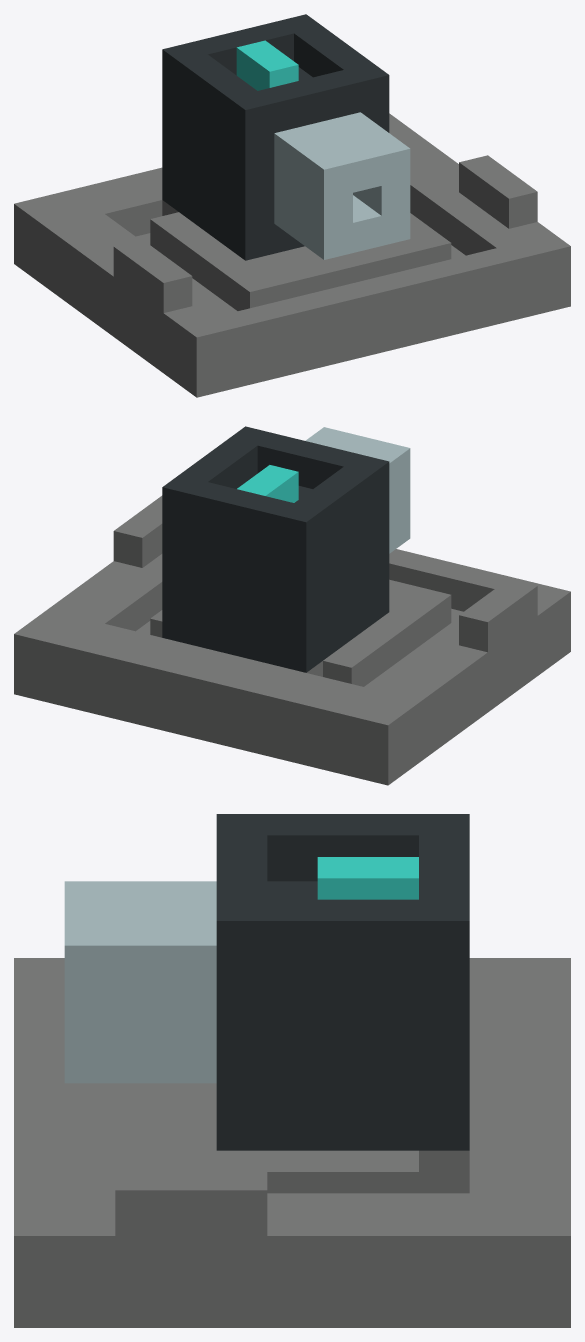
The model's file is shop_turret2.obj.
3 renders of one model, top to bottom at view 1: azimuth 30°, elevation 25°; view 2: azimuth 150°, elevation 25°; view 3: azimuth 270°, elevation 25°, orthographic. The views are drawn at different scales.
Bounding box in the file's own units: 1.3 × 0.7 × 1.1.
1 material, 1 textured.
